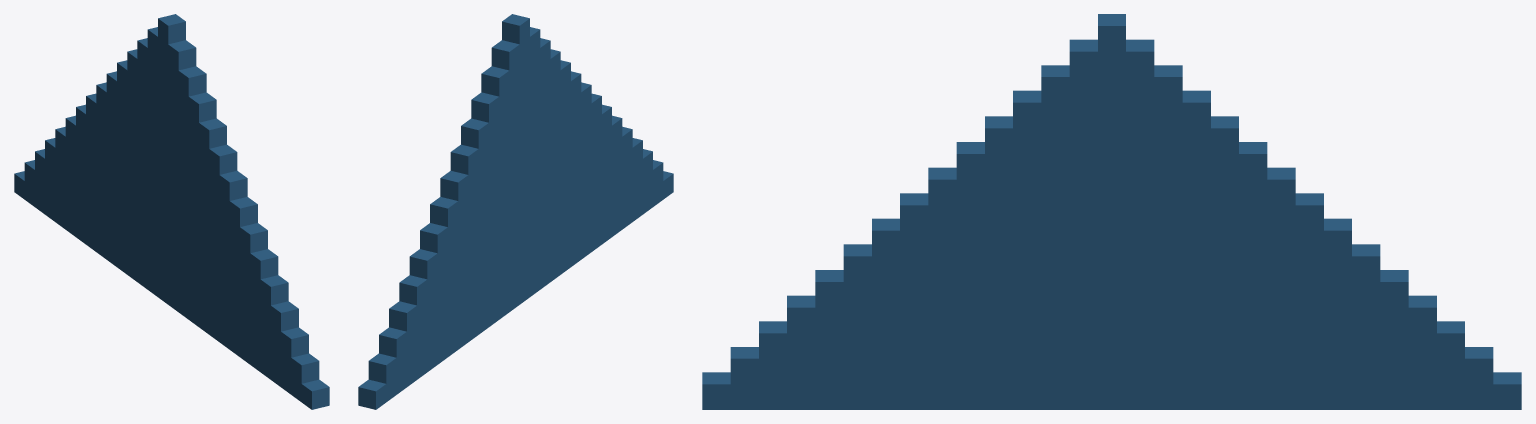
Rendered from ConstructionMaterials-16.obj.
The picture shows the model from 3 angles, left to right: view 1: azimuth 30°, elevation 25°; view 2: azimuth 150°, elevation 25°; view 3: azimuth 270°, elevation 25°; orthographic projection. The views are drawn at different scales.
Size of the model in its own units: 0.1 by 1.5 by 2.9.
Materials: 1 (1 with a texture image).
